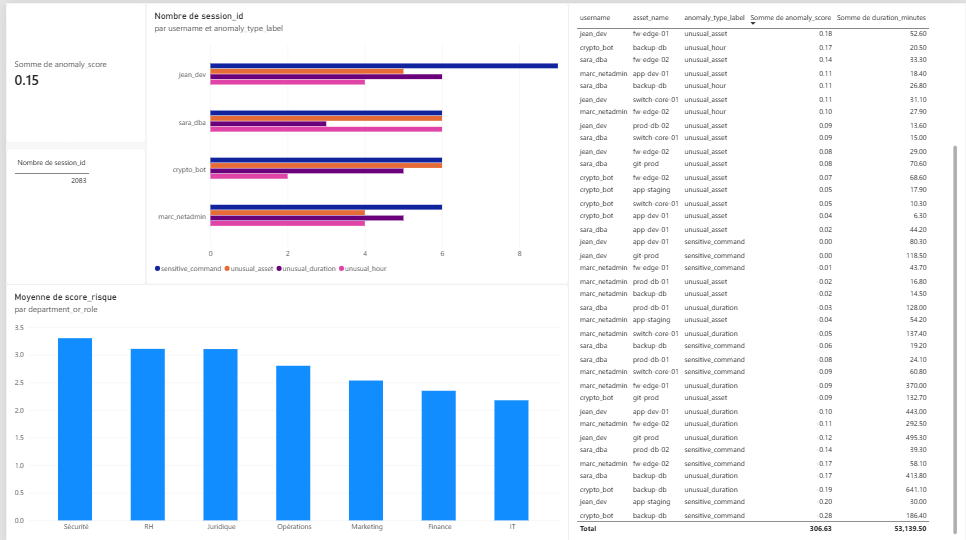

The page's visual inventory and layout, read from the dashboard file:
{"tool":"powerbi","page":{"name":"Page 1","canvas":[1920,1080],"ordinal":0},"visuals":[{"type":"cardVisual","fields":{"Data":["Avg(public fact_wallix_session.anomaly_score)"]},"box":[0,0,280,280],"z":0},{"type":"tableEx","fields":{"Values":["public fact_wallix_session.session_id"]},"box":[0,290,280,272.5],"z":1},{"type":"clusteredBarChart","fields":{"Category":["public dim_user.username"],"Series":["public dim_anomaly_type.anomaly_type_label"],"Y":["CountNonNull(public fact_wallix_session.session_id)"]},"box":[280,0,845,562.5],"z":2},{"type":"columnChart","fields":{"Category":["public dim_user.department_or_role"],"Y":["Avg(public fact_ad_audit.score_risque)"]},"box":[0,562.5,1125,517.5],"z":3},{"type":"tableEx","fields":{"Values":["public dim_user.username","public dim_asset.asset_name","public dim_anomaly_type.anomaly_type_label","Sum(public fact_wallix_session.anomaly_score)","Sum(public fact_wallix_session.duration_minutes)"]},"box":[1125,0,795,1080],"z":4}]}

Visuals, with their boxes in screenshot pixels (x1, y1, x2, y2), scaled from the page's 1920x1080 canvas onto the 966x540 screenshot:
cardVisual - Avg(public fact_wallix_session.anomaly_score): bbox(0, 0, 141, 140)
tableEx - public fact_wallix_session.session_id: bbox(0, 145, 141, 281)
clusteredBarChart - public dim_user.username x public dim_anomaly_type.anomaly_type_label: bbox(141, 0, 566, 281)
columnChart - public dim_user.department_or_role x Avg(public fact_ad_audit.score_risque): bbox(0, 281, 566, 539)
tableEx - public dim_user.username x public dim_asset.asset_name: bbox(566, 0, 965, 539)
